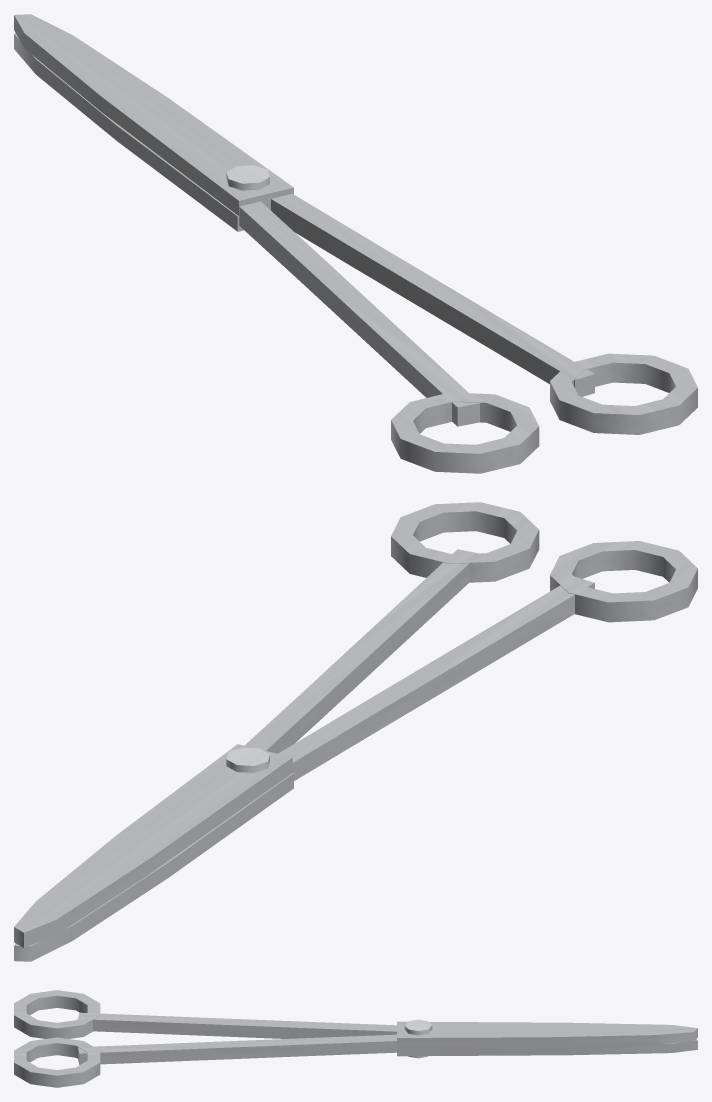
The model's file is s2_mayo_scissors.glb.
3 views of the same model, one above another, from view 1: azimuth 30°, elevation 25°; view 2: azimuth 150°, elevation 25°; view 3: azimuth 270°, elevation 25° (orthographic). The views are drawn at different scales.
Parts seen in each view (by area): view 1: s2_mayo_scissors; view 2: s2_mayo_scissors; view 3: s2_mayo_scissors.
Boxes of the visible parts, x1,y1,x2,y2 form: s2_mayo_scissors: [14, 14, 697, 473]; s2_mayo_scissors: [14, 502, 697, 961]; s2_mayo_scissors: [14, 990, 697, 1087].
Size of the model in its own units: 0.0471 by 0.007 by 0.159.
Materials: 1 (1 with a texture image).
